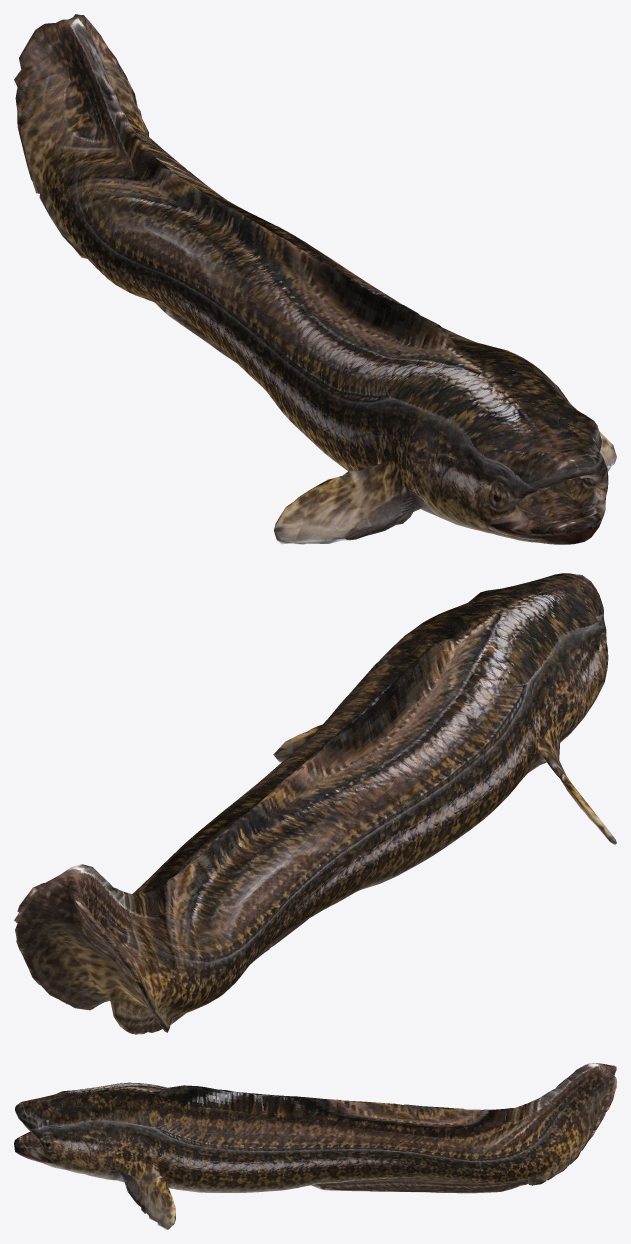
File: fish_eel.glb
3 renders of one model, top to bottom at view 1: azimuth 30°, elevation 25°; view 2: azimuth 150°, elevation 25°; view 3: azimuth 270°, elevation 25°, orthographic. The views are drawn at different scales.
Visible parts, largest first — view 1: geometry_0; view 2: geometry_0; view 3: geometry_0.
Part boxes in pixels (box(x1,y1,x2,y2)): geometry_0: box(14, 14, 616, 544); geometry_0: box(14, 573, 616, 1034); geometry_0: box(14, 1063, 616, 1229).
Bounding box in the file's own units: 0.7332 × 0.4664 × 1.96.
1 material, 1 textured.
